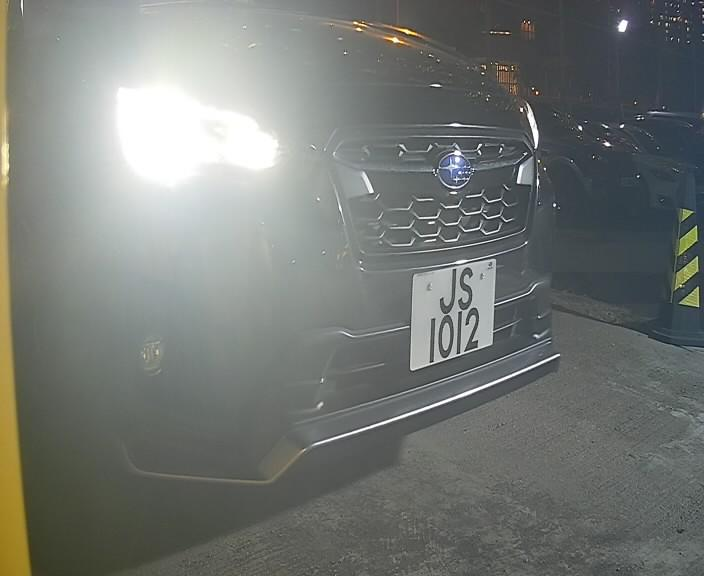Car: (4, 19, 639, 502)
License Plate: (406, 253, 503, 384)
